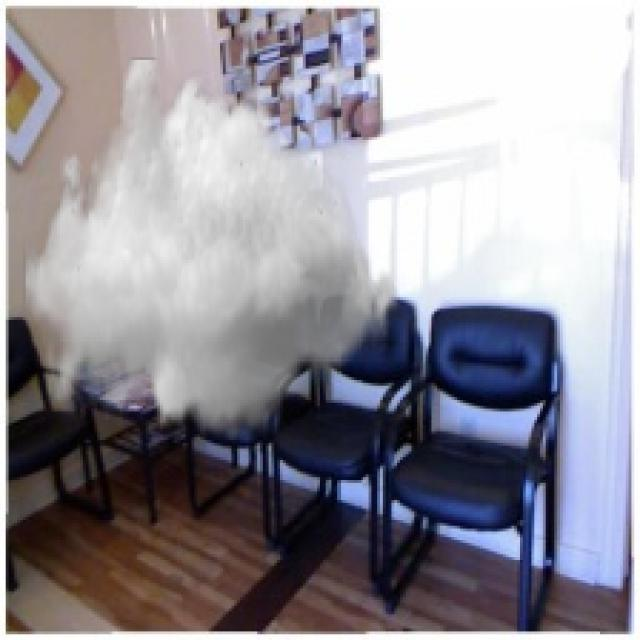Smoke: (23, 57, 406, 440)
